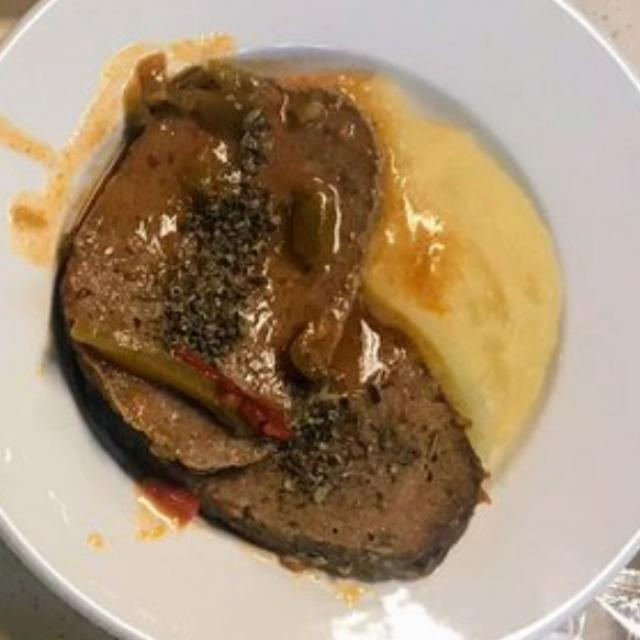ana_yemek: (2, 7, 633, 636)
